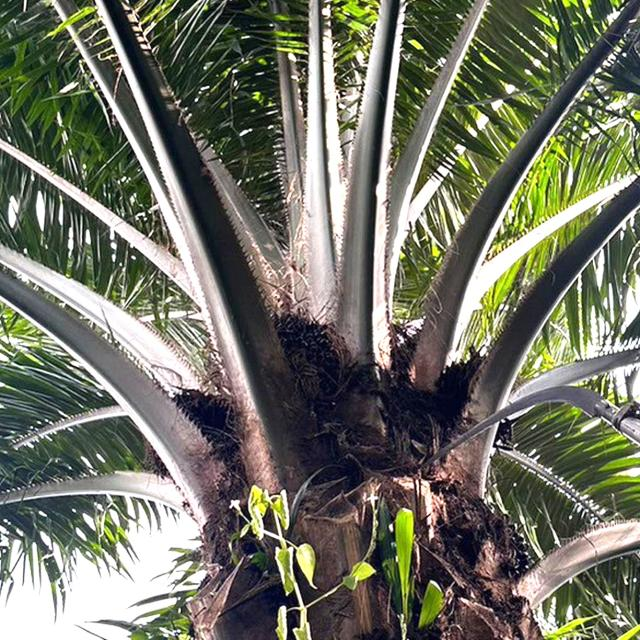unripe: (252, 304, 361, 414), (142, 386, 239, 479)
